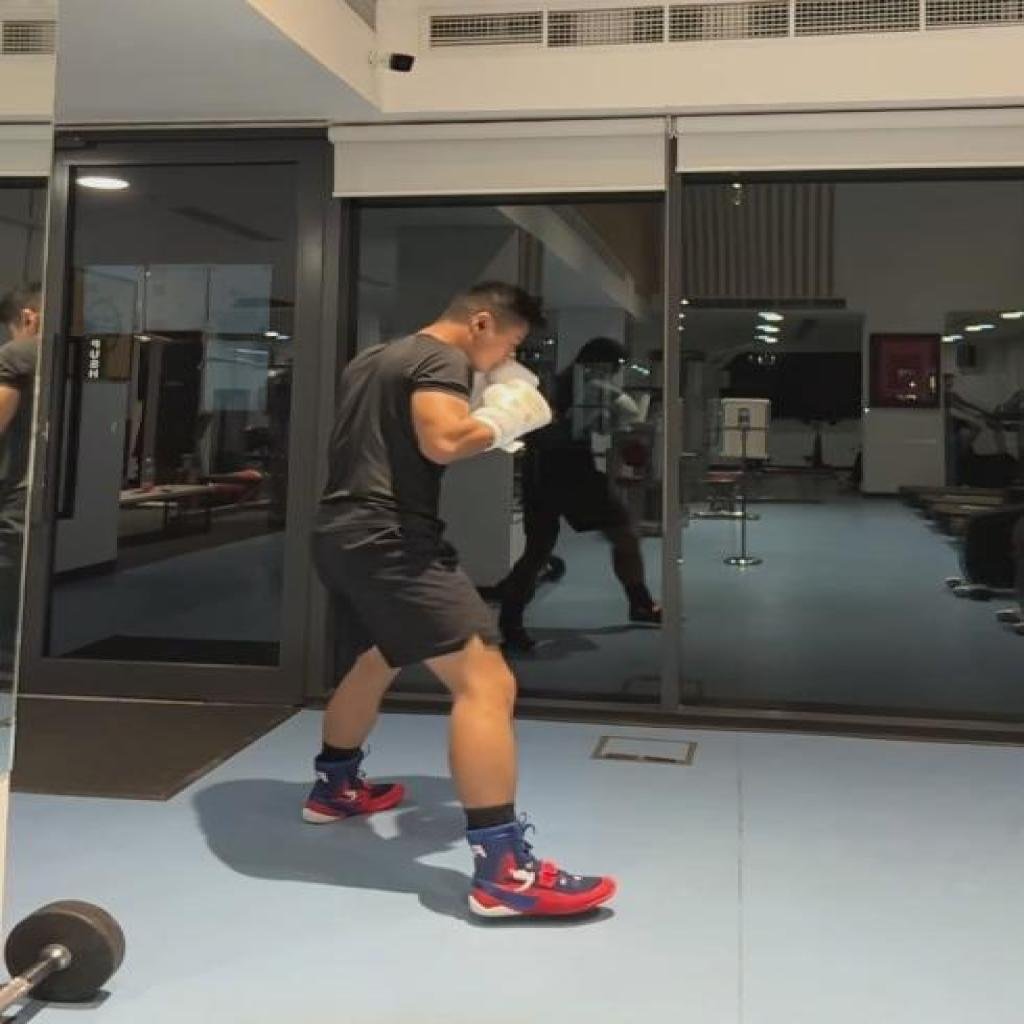no punch: (299, 277, 623, 926)
